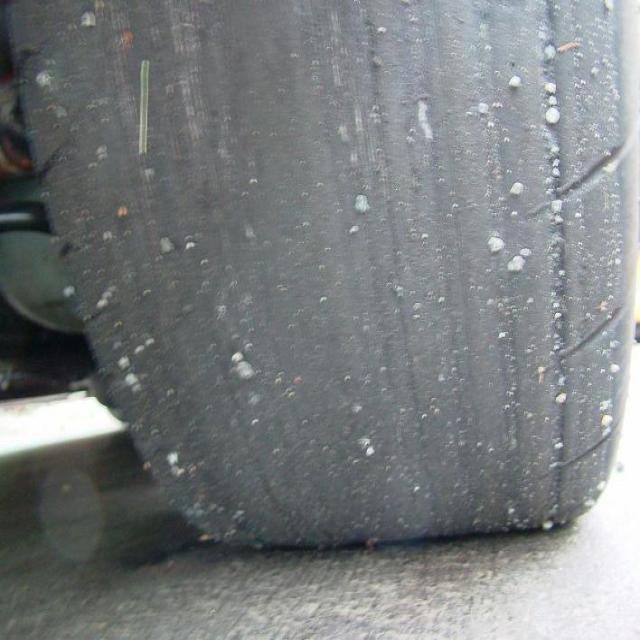Flat spots: (163, 0, 565, 523)
